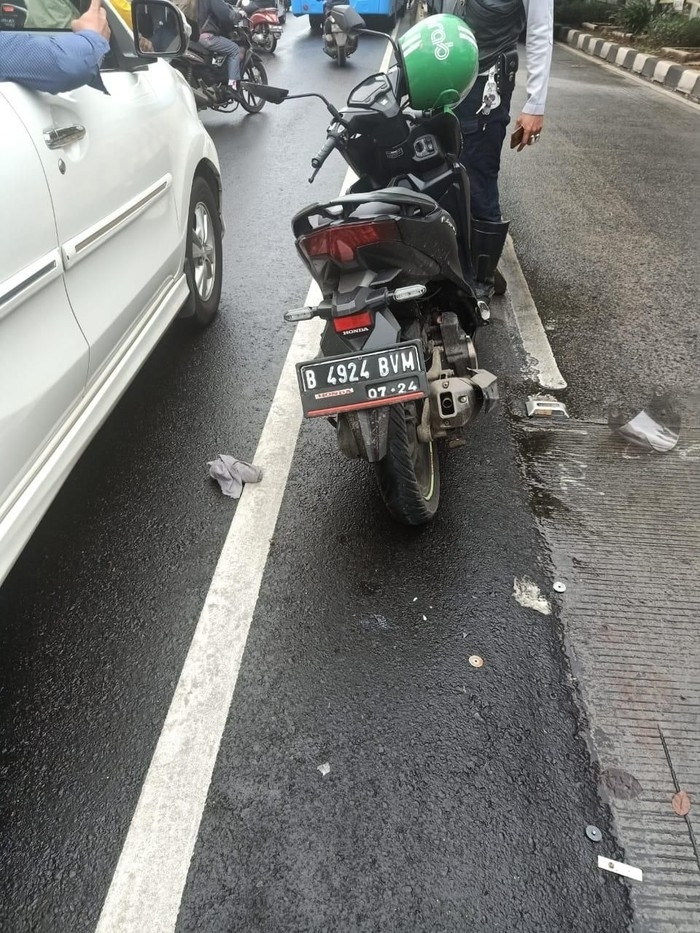plate: (300, 346, 423, 414)
